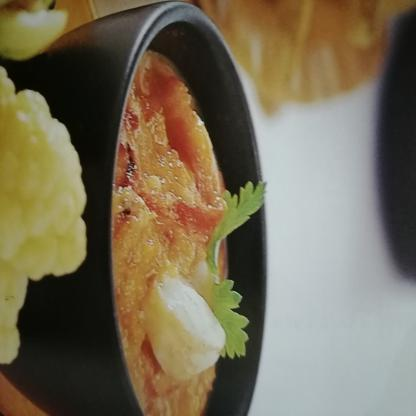Namprig: (106, 22, 265, 415)
